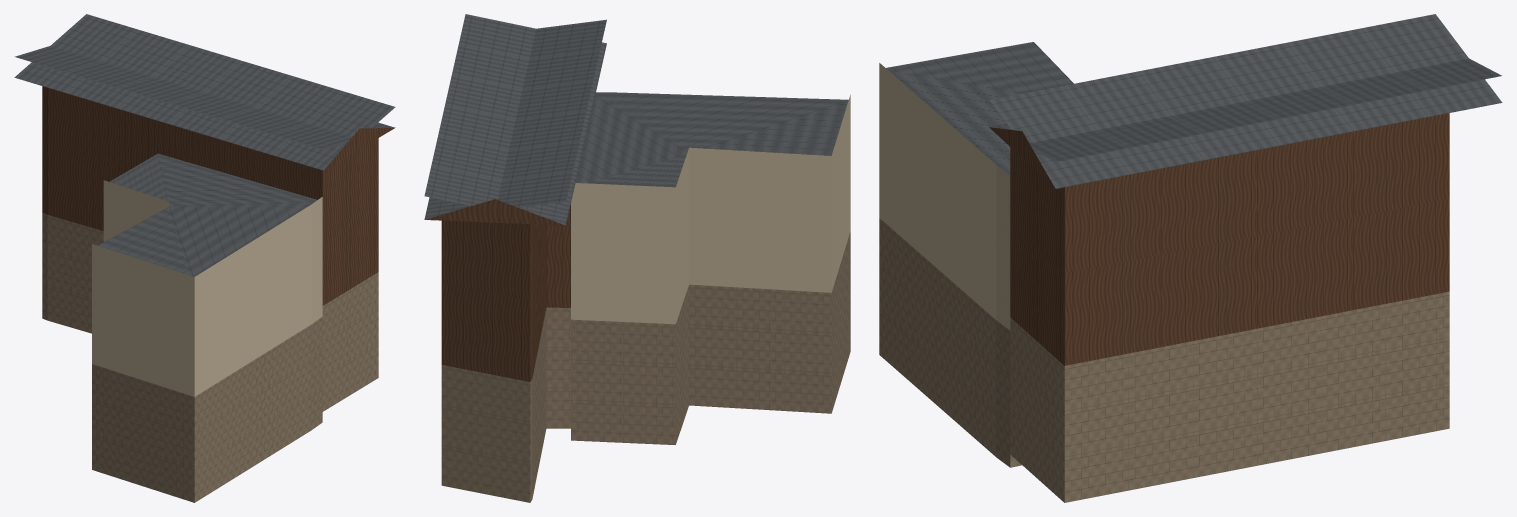
Rendered from bld_c35_35_308.gltf.
The picture shows the model from 3 angles, left to right: view 1: azimuth 30°, elevation 25°; view 2: azimuth 150°, elevation 25°; view 3: azimuth 270°, elevation 25°; orthographic projection. The views are drawn at different scales.
Visible parts, largest first — view 1: bld_c35_35_308; view 2: bld_c35_35_308; view 3: bld_c35_35_308.
Boxes of the visible parts, x1,y1,x2,y2 form: bld_c35_35_308: [14, 14, 395, 502]; bld_c35_35_308: [424, 14, 850, 502]; bld_c35_35_308: [879, 14, 1502, 502].
Bounding box in the file's own units: 15.74 × 13.5 × 21.01.
6 materials, 6 textured.
